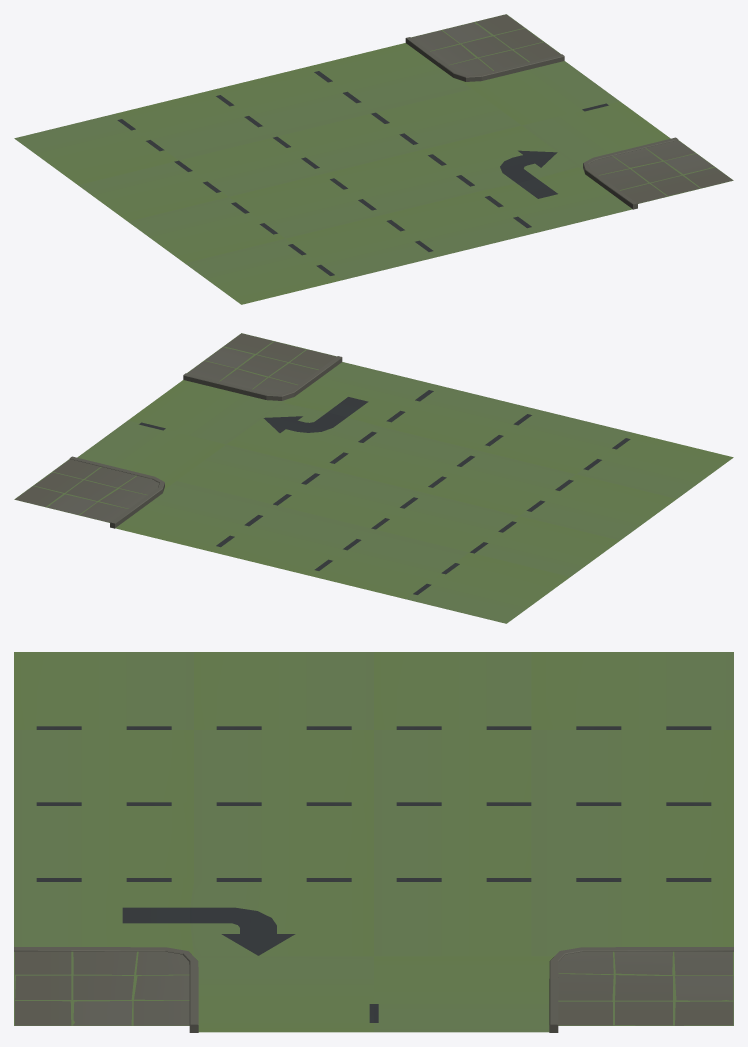
File: Road_43.fbx
3 views of the same model, one above another, from view 1: azimuth 30°, elevation 25°; view 2: azimuth 150°, elevation 25°; view 3: azimuth 270°, elevation 25° (orthographic). The views are drawn at different scales.
Parts seen in each view (by area): view 1: Road_43; view 2: Road_43; view 3: Road_43.
Boxes of the visible parts, left/top/right/bottom form: Road_43: left=14, top=14, right=733, bottom=304; Road_43: left=14, top=333, right=733, bottom=623; Road_43: left=14, top=652, right=733, bottom=1032.
Bounding box in the file's own units: 15 × 0.15 × 12.
